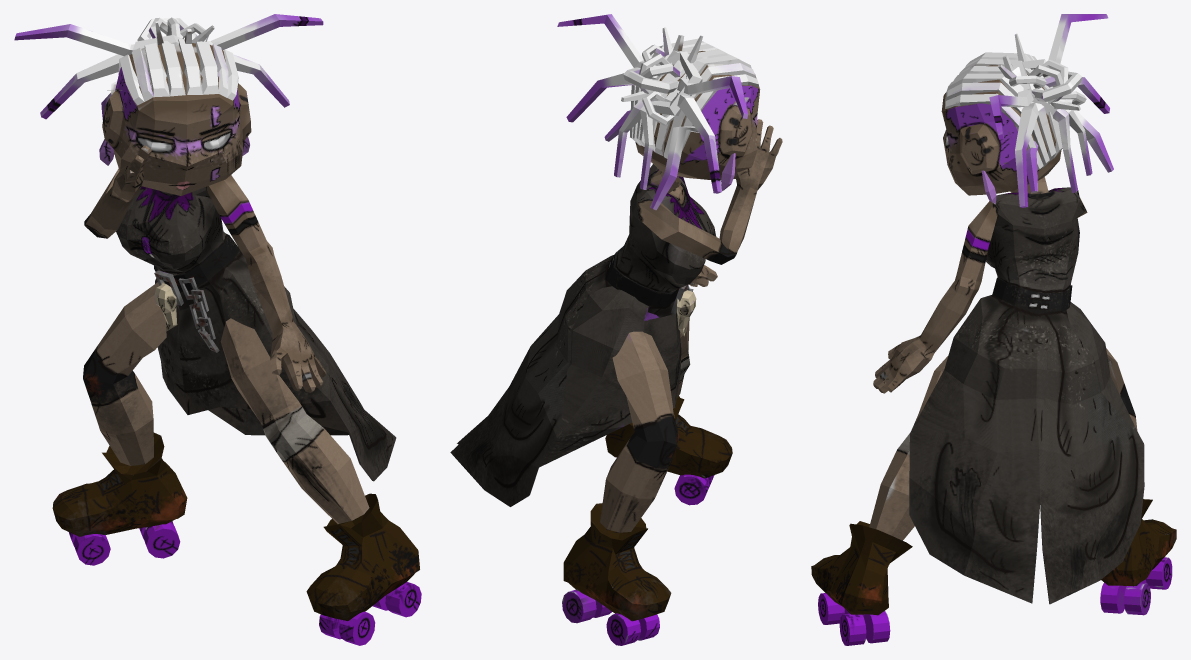
File: bruja_000011.obj
3 views of the same model, side by side, from view 1: azimuth 30°, elevation 25°; view 2: azimuth 150°, elevation 25°; view 3: azimuth 270°, elevation 25° (orthographic). The views are drawn at different scales.
Visible parts, largest first — view 1: Bruja_Plane.001; view 2: Bruja_Plane.001; view 3: Bruja_Plane.001.
Part boxes in pixels (left/top/right/bottom): Bruja_Plane.001: left=14, top=14, right=421, bottom=645; Bruja_Plane.001: left=450, top=14, right=782, bottom=645; Bruja_Plane.001: left=811, top=14, right=1176, bottom=645.
Size of the model in its own units: 9.48 by 15.46 by 9.25.
